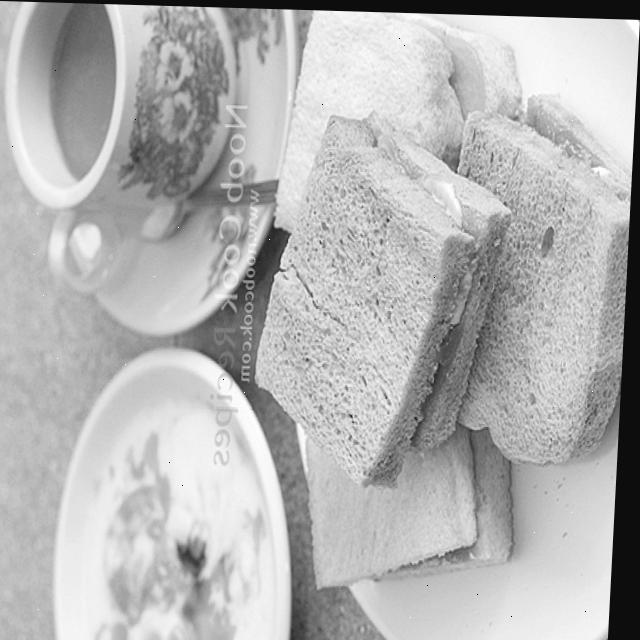面包点心: (244, 6, 640, 616)
